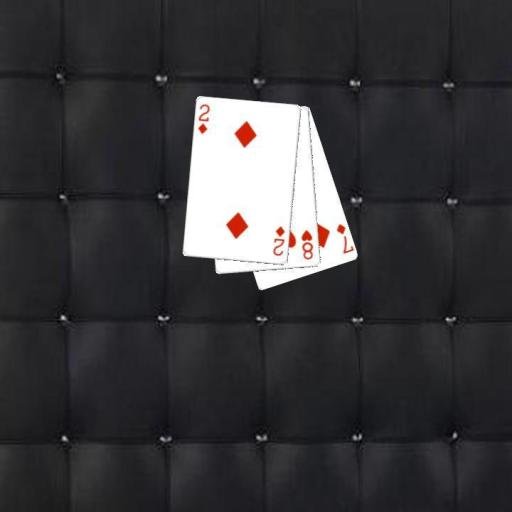card-corner: (334, 220, 354, 256), (298, 227, 315, 261), (270, 224, 287, 258), (195, 101, 211, 135)
